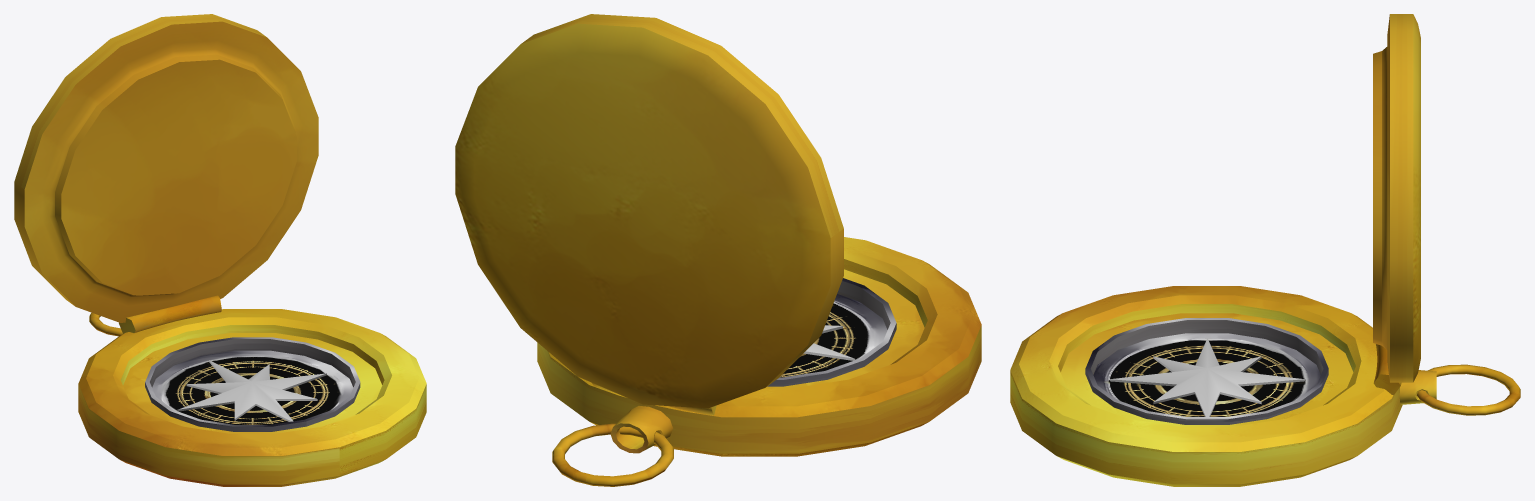
File: compass_all.FBX
3 views of the same model, side by side, from view 1: azimuth 30°, elevation 25°; view 2: azimuth 150°, elevation 25°; view 3: azimuth 270°, elevation 25° (orthographic). The views are drawn at different scales.
Parts seen in each view (by area): view 1: Cylinder002, Cylinder001, Cylinder004, Cylinder005; view 2: Cylinder002, Cylinder001, Torus001, Cylinder003; view 3: Cylinder001, Cylinder002, Cylinder004, Torus001, Cylinder003, Cylinder005.
Part boxes in pixels (left/top/right/bottom): Cylinder002: left=14, top=14, right=318, bottom=322; Cylinder001: left=78, top=309, right=426, bottom=486; Cylinder004: left=177, top=360, right=326, bottom=421; Cylinder005: left=119, top=295, right=221, bottom=333; Cylinder002: left=455, top=14, right=843, bottom=408; Cylinder001: left=537, top=237, right=981, bottom=456; Torus001: left=552, top=423, right=673, bottom=486; Cylinder003: left=610, top=406, right=673, bottom=453; Cylinder001: left=1010, top=286, right=1402, bottom=486; Cylinder002: left=1373, top=14, right=1420, bottom=382; Cylinder004: left=1110, top=338, right=1304, bottom=416; Torus001: left=1416, top=364, right=1520, bottom=415; Cylinder003: left=1399, top=370, right=1436, bottom=404; Cylinder005: left=1373, top=344, right=1401, bottom=394.
Bounding box in the file's own units: 39.07 × 42.5 × 51.47.
